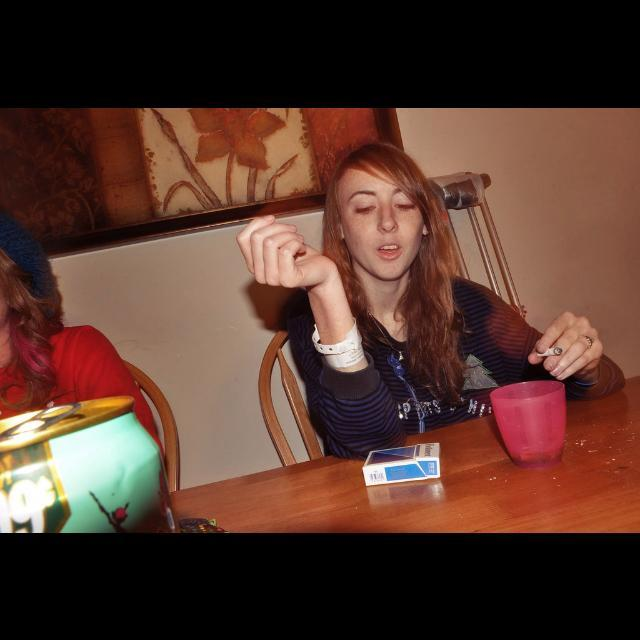rokok: (534, 344, 564, 361)
